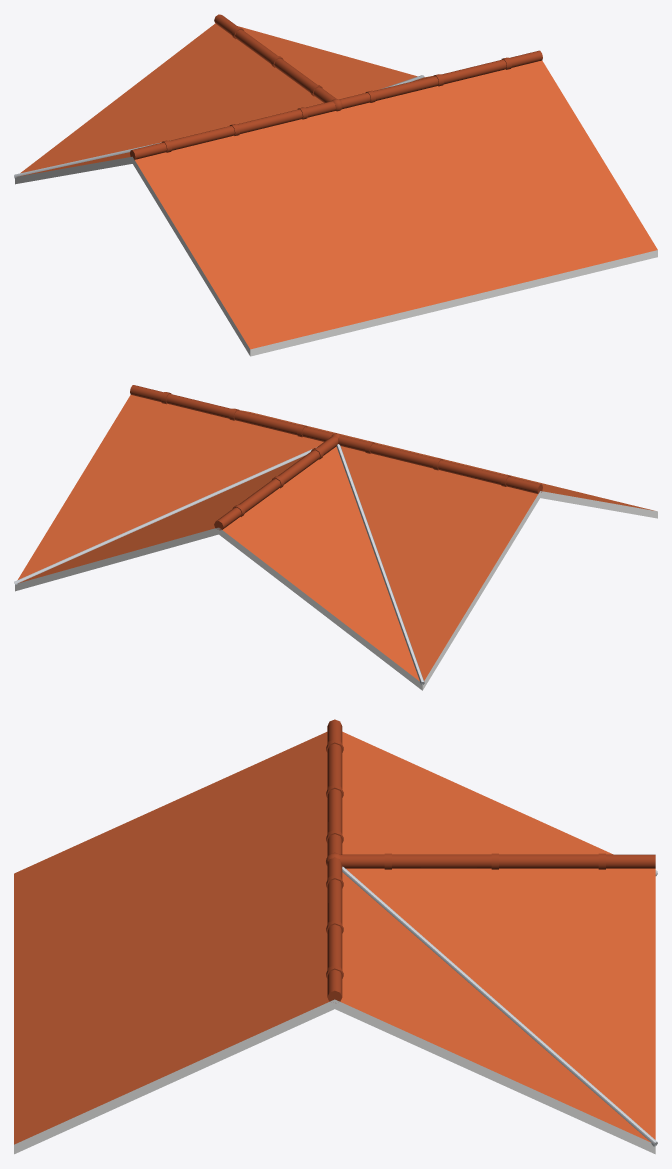
The model's file is telhado_encontro_t_v6_i50.glb.
3 renders of one model, top to bottom at view 1: azimuth 30°, elevation 25°; view 2: azimuth 150°, elevation 25°; view 3: azimuth 270°, elevation 25°, orthographic. The views are drawn at different scales.
Parts seen in each view (by area): view 1: telhado_encontro_t_v6_i50; view 2: telhado_encontro_t_v6_i50; view 3: telhado_encontro_t_v6_i50.
Boxes of the visible parts, left/top/right/bottom form: telhado_encontro_t_v6_i50: left=14, top=14, right=657, bottom=356; telhado_encontro_t_v6_i50: left=14, top=385, right=657, bottom=690; telhado_encontro_t_v6_i50: left=14, top=719, right=657, bottom=1154.
Size of the model in its own units: 6.04 by 1.71 by 6.02.
Materials: 4 (1 with a texture image).
